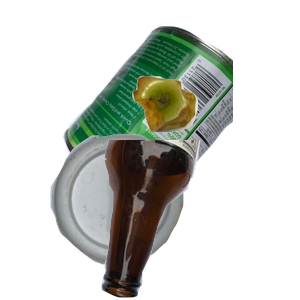glass: (99, 140, 300, 300)
metal: (60, 23, 300, 203)
plastic: (48, 132, 224, 300)
trash: (130, 74, 300, 199)
